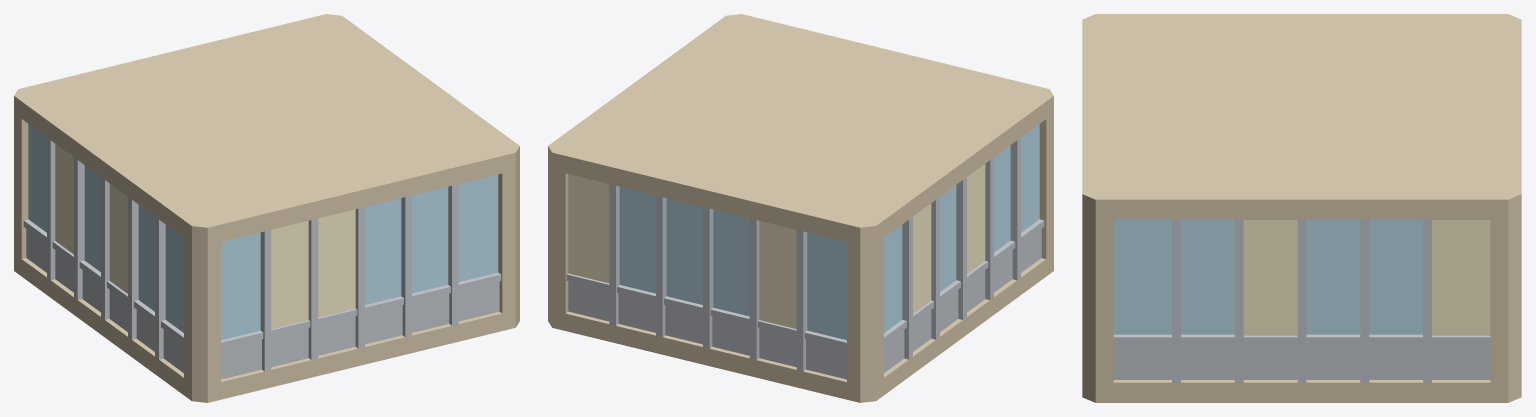
Rendered from building.glassfloor.glb.
The picture shows the model from 3 angles, left to right: view 1: azimuth 30°, elevation 25°; view 2: azimuth 150°, elevation 25°; view 3: azimuth 270°, elevation 25°; orthographic projection. The views are drawn at different scales.
Visible parts, largest first — view 1: Paint, Metal, Glass, Light; view 2: Paint, Metal, Glass, Light; view 3: Paint, Glass, Metal, Light.
Part boxes in pixels (bbox=[...]): Paint: bbox=[14, 14, 519, 402]; Metal: bbox=[23, 138, 501, 379]; Glass: bbox=[28, 124, 498, 339]; Light: bbox=[55, 144, 355, 328]; Paint: bbox=[548, 14, 1053, 402]; Metal: bbox=[566, 138, 1044, 379]; Glass: bbox=[619, 124, 1039, 339]; Light: bbox=[568, 164, 985, 328]; Paint: bbox=[1082, 14, 1521, 402]; Glass: bbox=[1113, 220, 1422, 334]; Metal: bbox=[1113, 220, 1490, 382]; Light: bbox=[1243, 220, 1490, 335].
Bounding box in the file's own units: 1.96 × 1 × 1.96.
